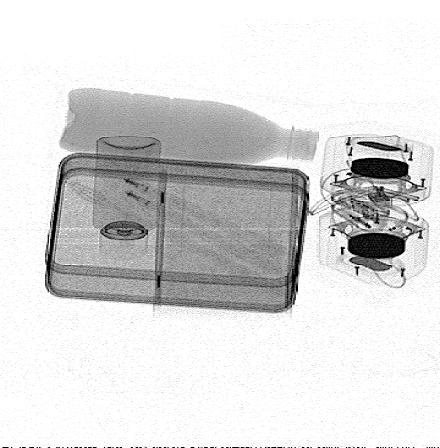Sprayer: (92, 135, 163, 261)
